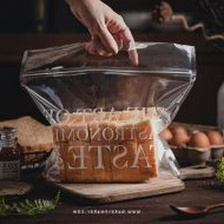snack: (12, 35, 204, 190)
